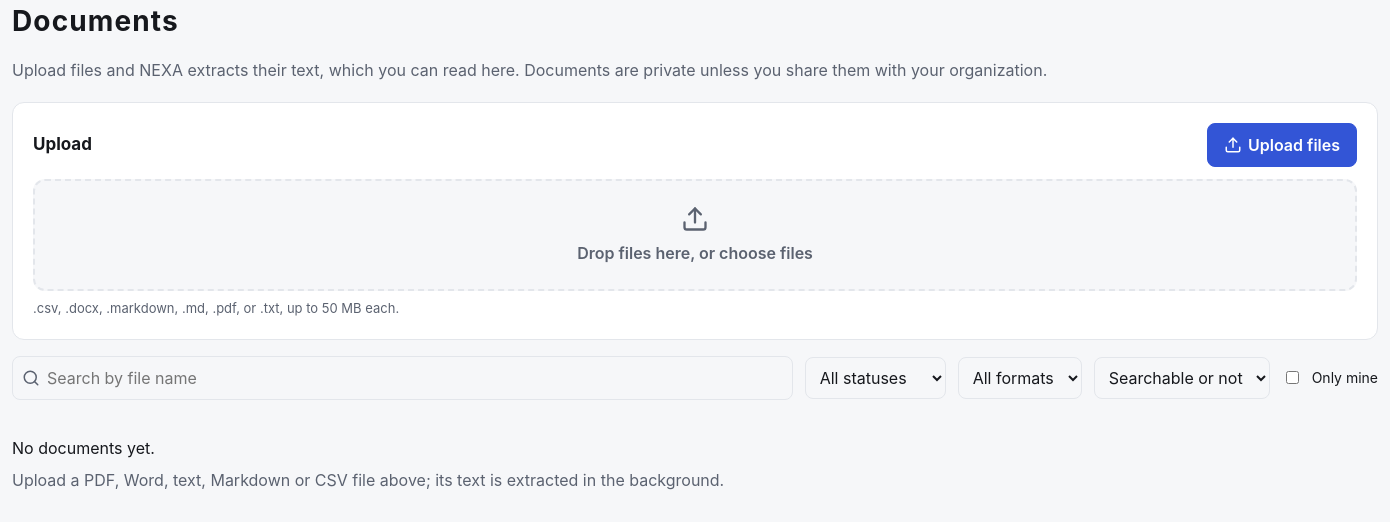
Scenario: DocumentsPage › shows an empty library, and an empty search apart from it
Expected: the text "No documents yet." is shown, [12,438,155,458]
Select "Failed" in the 1st dropdown named "Filter by status" at coordinates (875, 378), box [805,356,946,398]
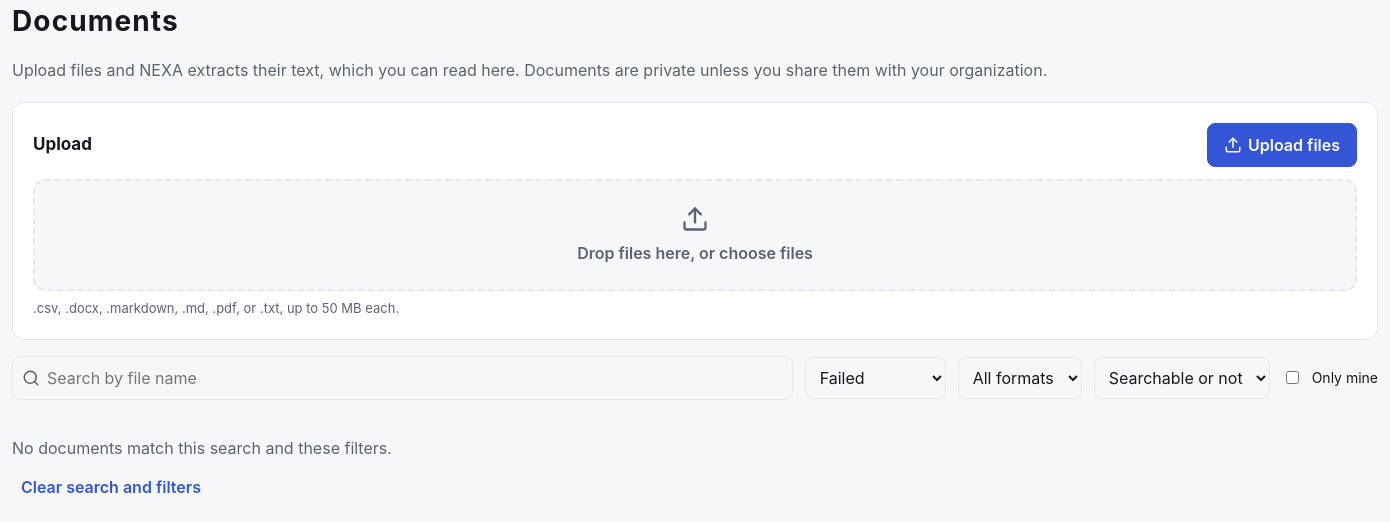
Expected: the text "No documents match this search and these filters." is shown, [12,438,392,458]
Click the button "Clear search and filters" at coordinates (111, 486), box [12,468,210,506]
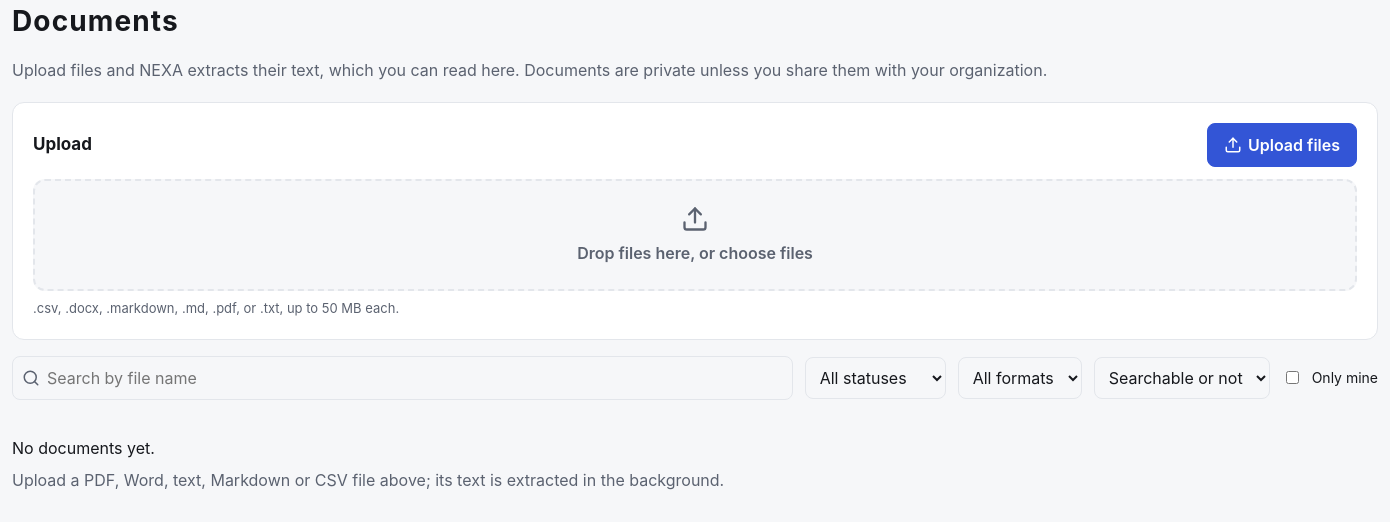
Expected: the text "No documents yet." is shown, [12,438,155,458]
